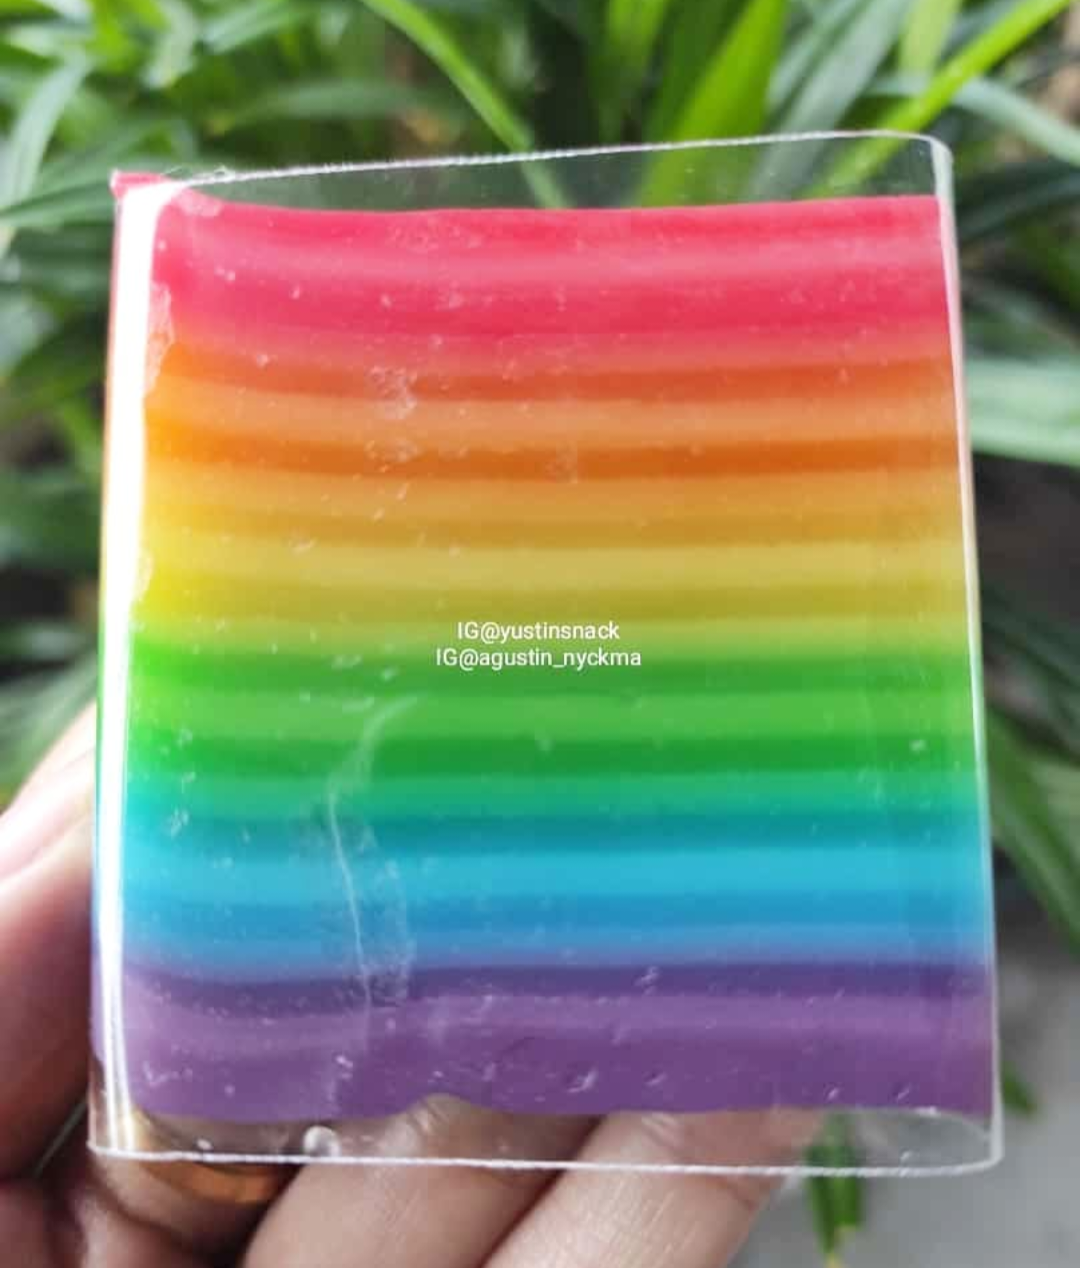kue_lapis_pelangi: (109, 159, 999, 1136)
